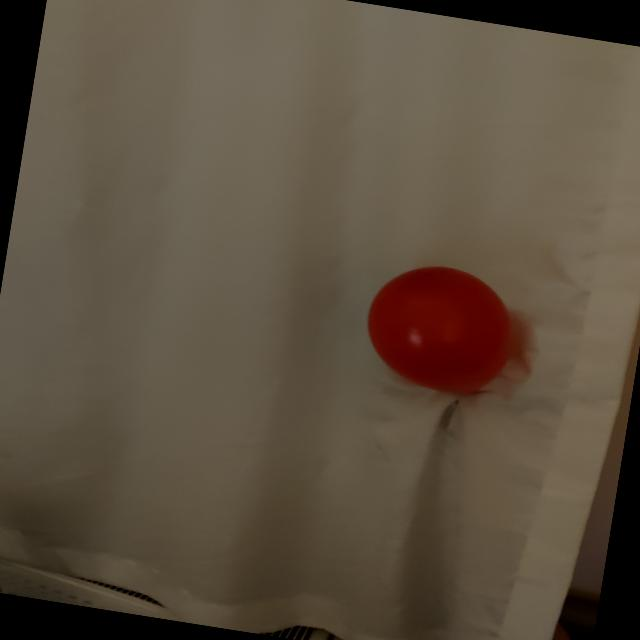balloon: (367, 267, 512, 394)
